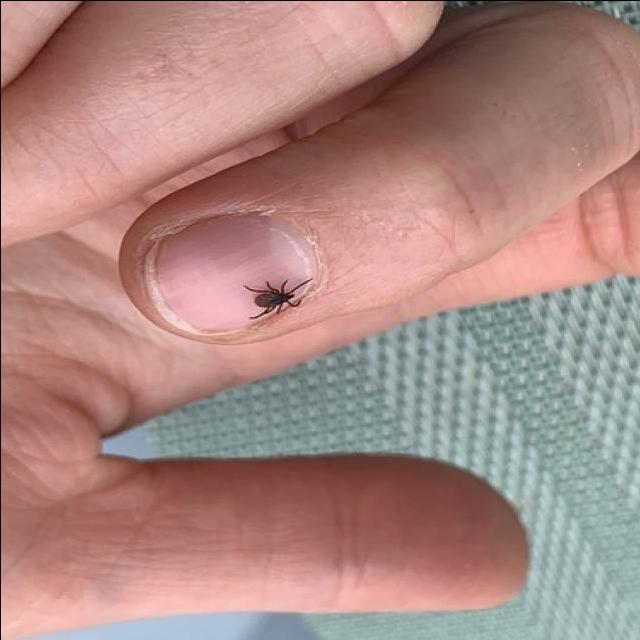Ixodes Ricinus-F: (244, 279, 314, 323)
